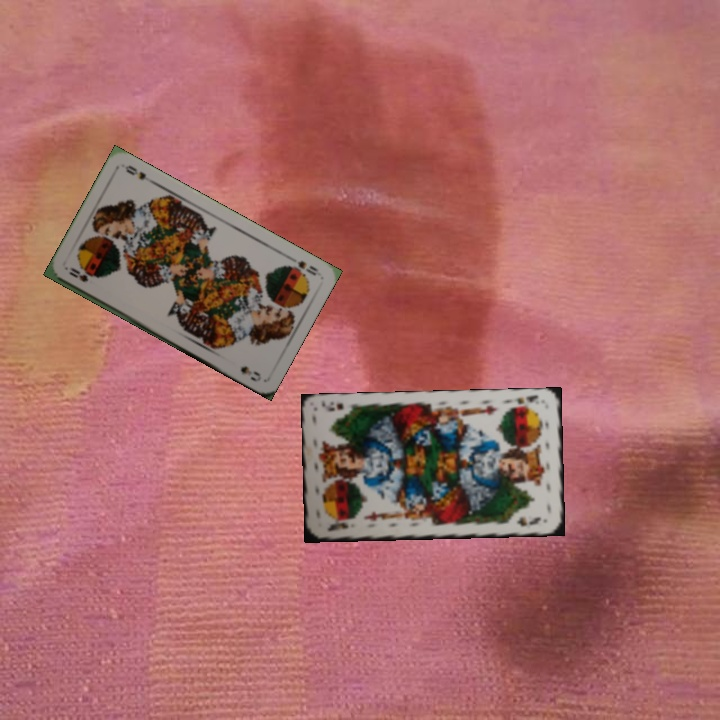SK: (504, 391, 541, 411), (323, 518, 351, 534)
SO: (285, 256, 321, 278), (65, 263, 91, 285)
